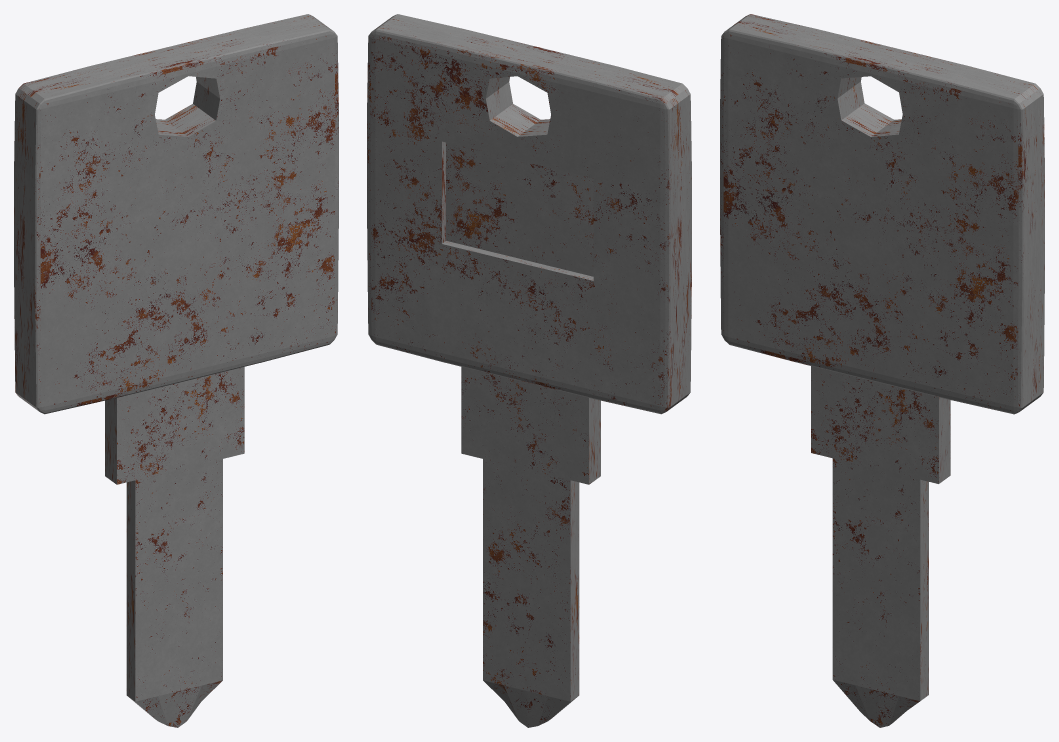
Rendered from chave quadrada.fbx.
3 renders of one model, left to right at view 1: azimuth 30°, elevation 25°; view 2: azimuth 150°, elevation 25°; view 3: azimuth 330°, elevation 25°, orthographic.
Visible parts, largest first — view 1: Cube; view 2: Cube; view 3: Cube.
Boxes of the visible parts, x1,y1,x2,y2 form: Cube: [14, 14, 338, 727]; Cube: [367, 14, 691, 727]; Cube: [720, 14, 1044, 727].
Bounding box in the file's own units: 81.62 × 172 × 10.96.
